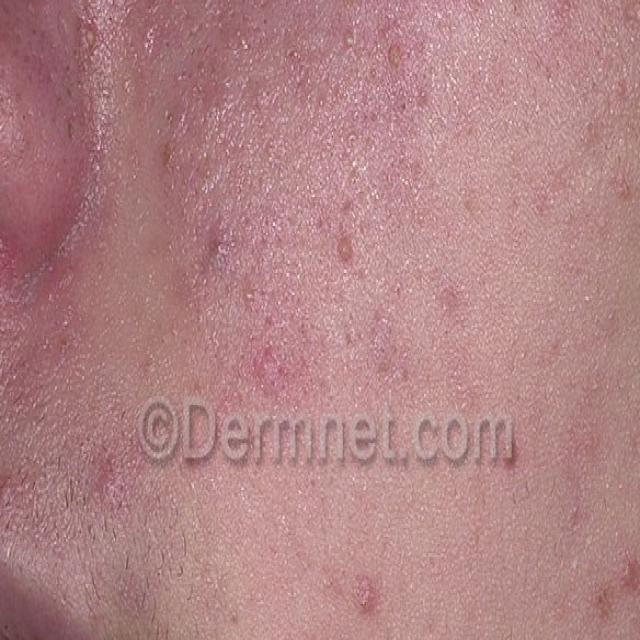Acne: (158, 77, 444, 401), (487, 352, 640, 640), (227, 499, 505, 640), (0, 285, 141, 558)
